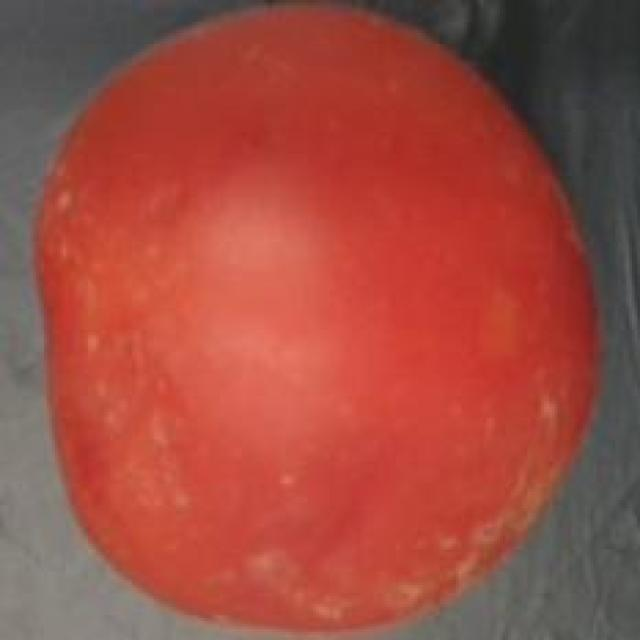overripe tomato: (36, 5, 598, 629)
